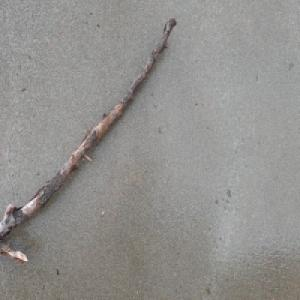Wood: (0, 17, 178, 265)
